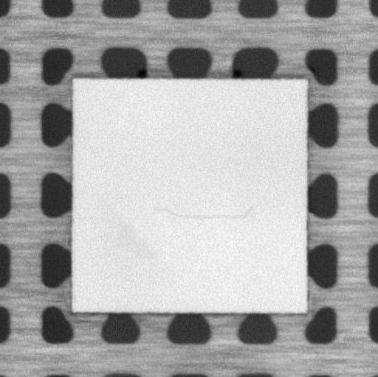DIE_CRACK: (155, 200, 256, 219)
